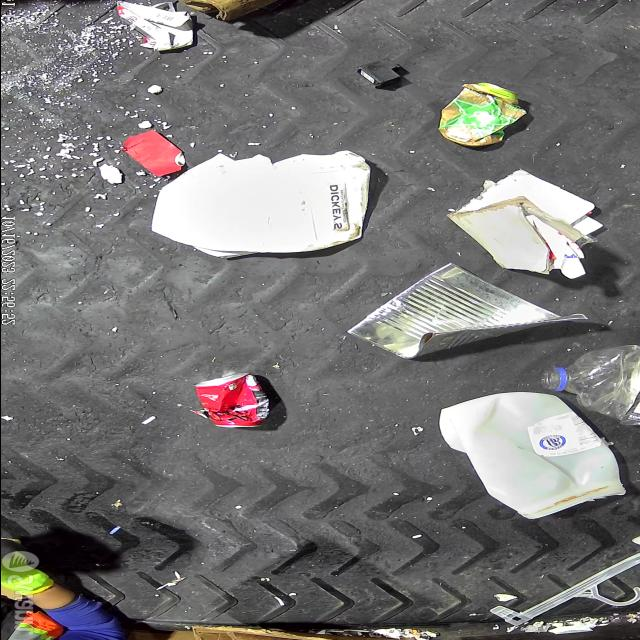can: (192, 372, 268, 428)
milk_jug: (438, 391, 626, 519)
plastic_bottle: (540, 345, 640, 429)
